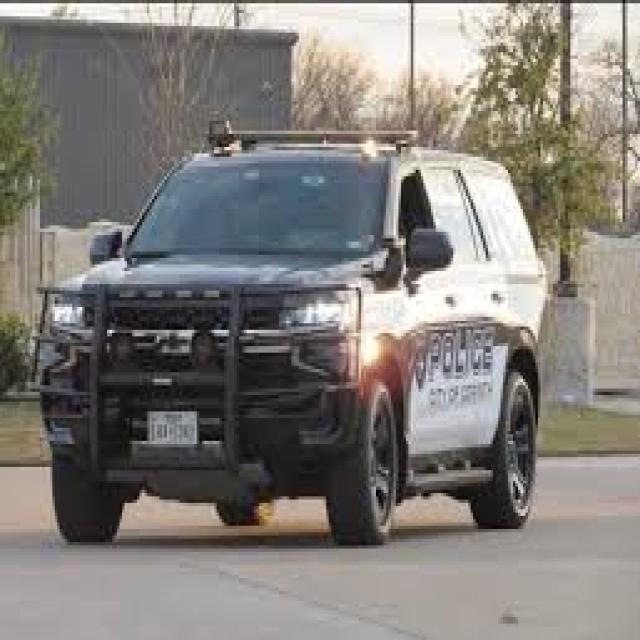cop: (27, 120, 553, 549)
